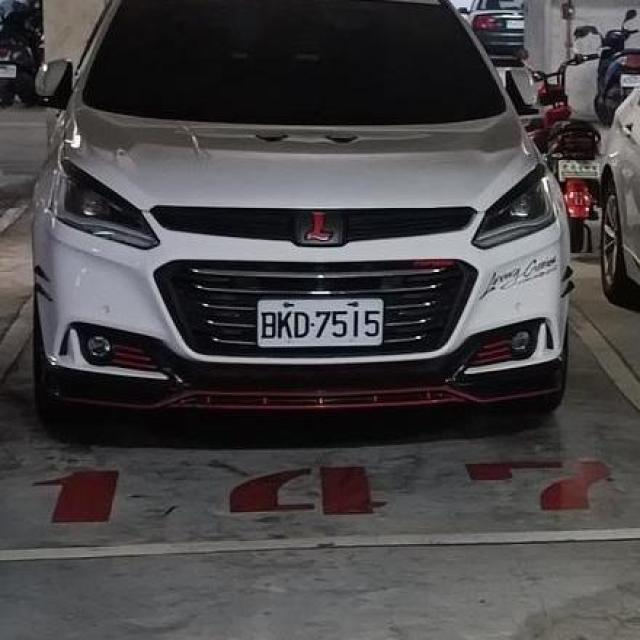W: (253, 295, 387, 352)
